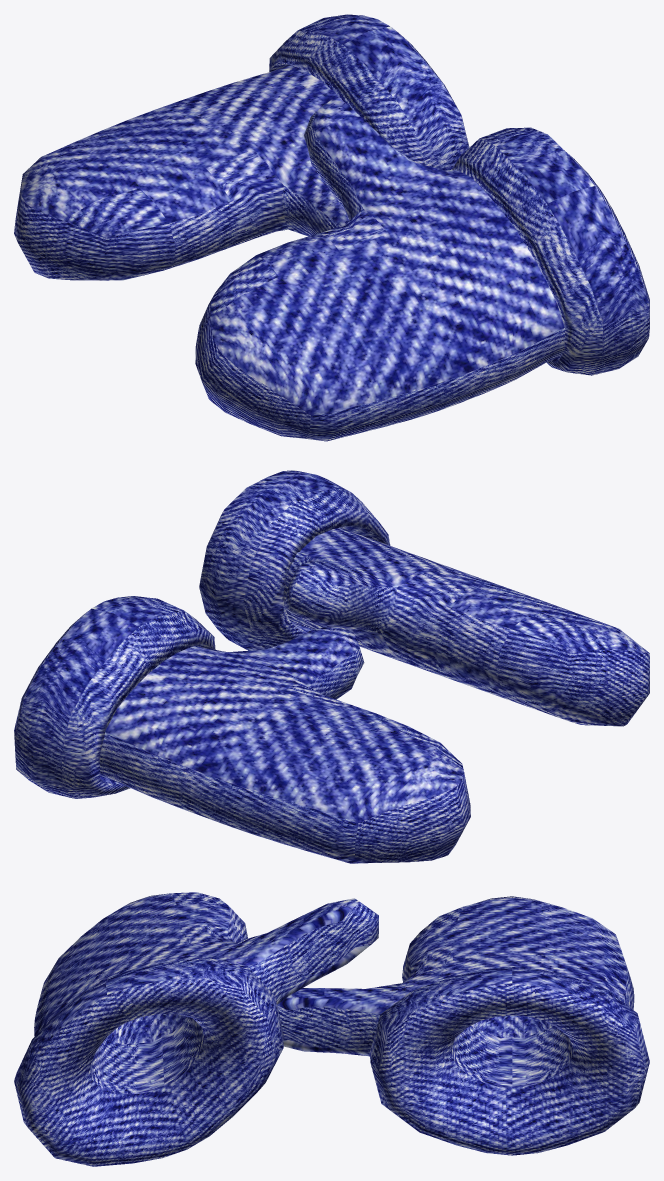
Rendered from gloves.fbx.
The picture shows the model from 3 angles, top to bottom: view 1: azimuth 30°, elevation 25°; view 2: azimuth 150°, elevation 25°; view 3: azimuth 270°, elevation 25°; orthographic projection.
Parts seen in each view (by area): view 1: Gloves; view 2: Gloves; view 3: Gloves.
Boxes of the visible parts, x1,y1,x2,y2 form: Gloves: (14,14,649,441); Gloves: (14,470,649,863); Gloves: (14,892,649,1166).
Bounding box in the file's own units: 2.77 × 1.33 × 3.85.
1 material, 1 textured.
